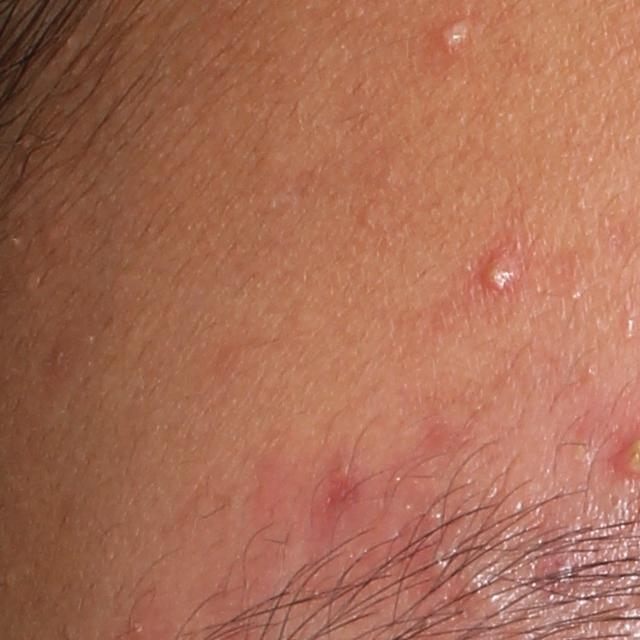pustule: (469, 248, 526, 296), (440, 16, 480, 61)
